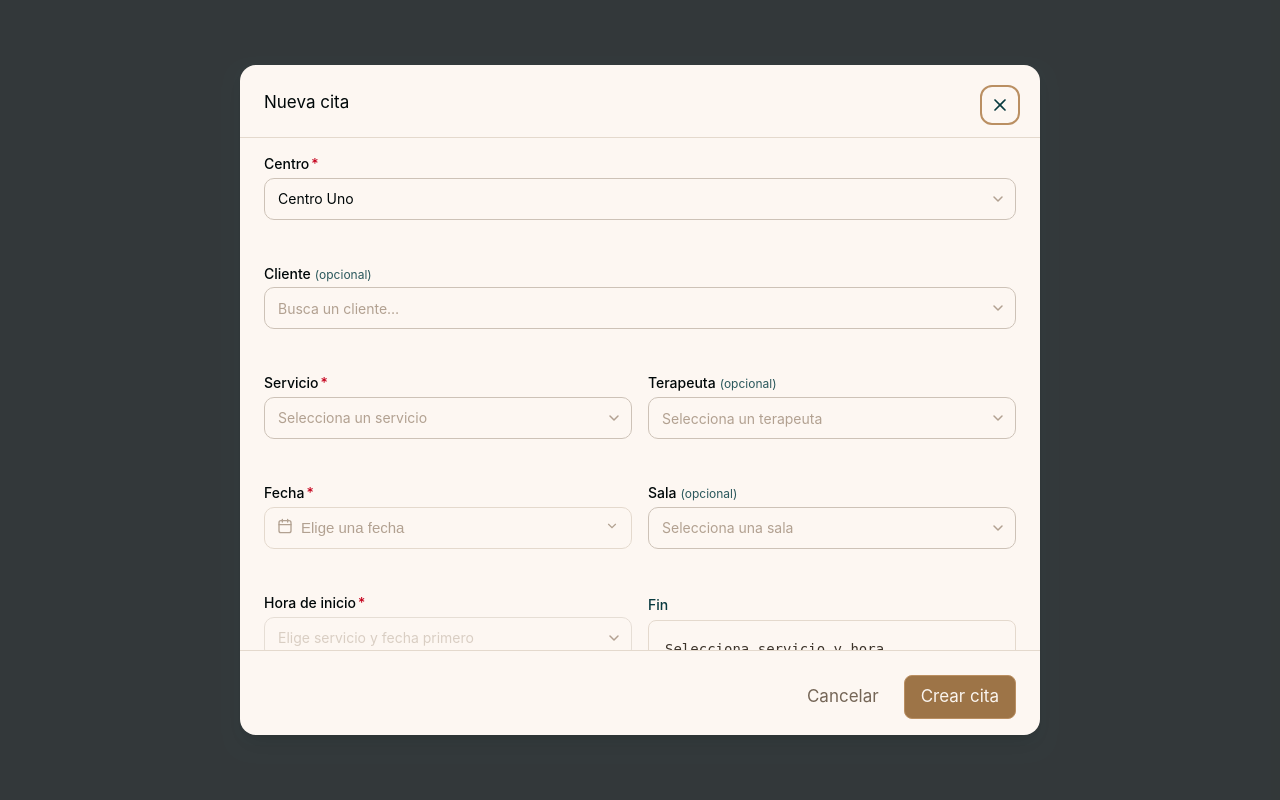
CitaModal — centro selector › changing the centro resets servicio/sala/masajista and re-scopes the pickers
The image size is (1280, 800).
# Pick a servicio first so the reset is observable.
Click the button labelled "Selecciona un servicio".
click(353, 418)  # box [264,397,632,439]
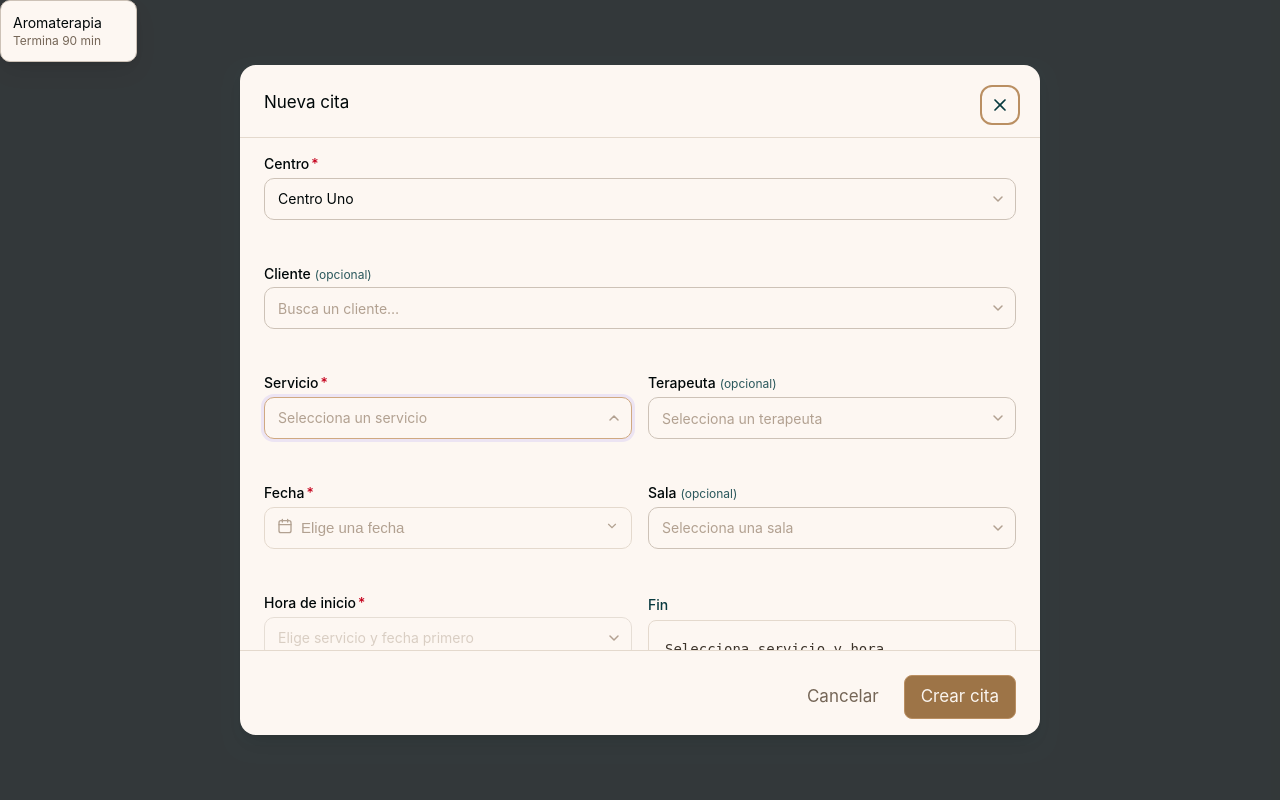
Click the option "Aromaterapia Termina 90 min".
click(68, 31)  # box [1,5,136,57]
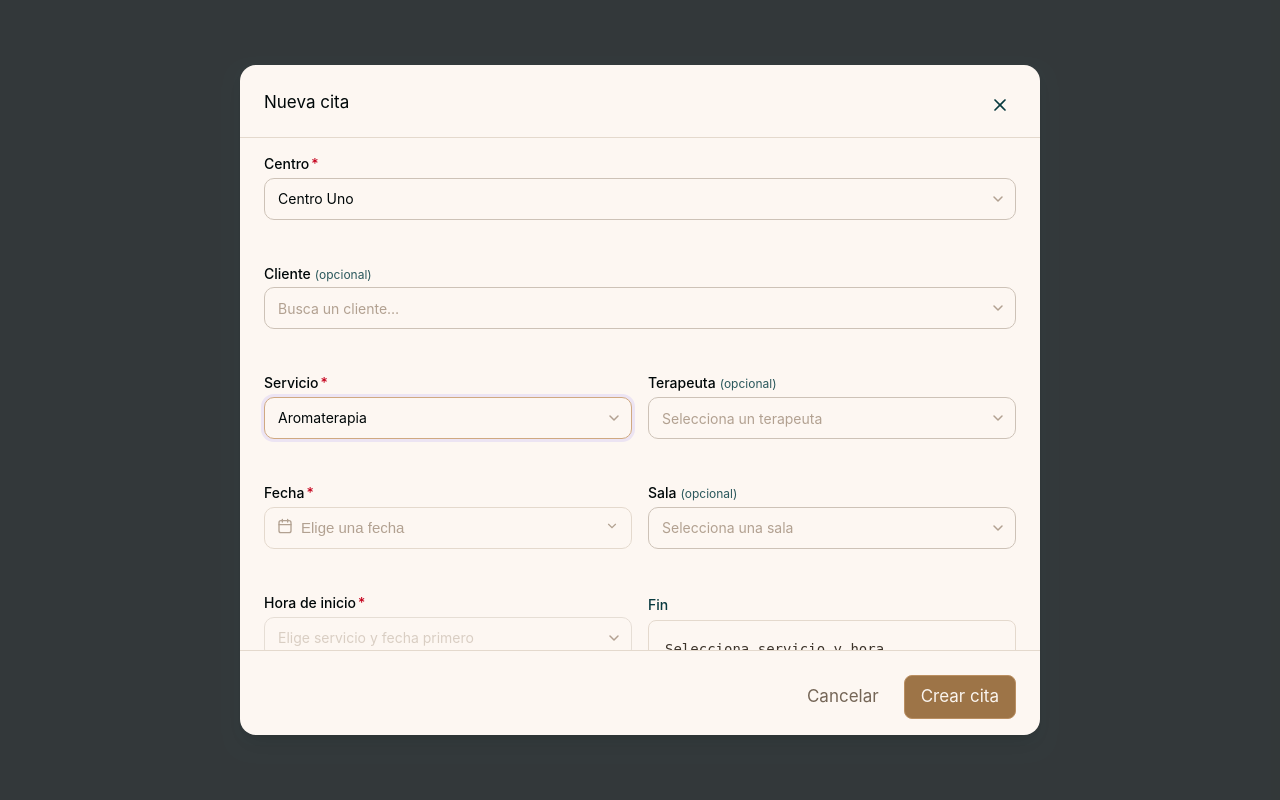
Result: the button named "Servicio" reads "Aromaterapia" at [264,397,632,439]
# Switch centro from the default (id 1) to "Centro Dos" (id 2).
Click the button labelled "Centro Uno".
click(316, 199)  # box [264,178,1016,220]
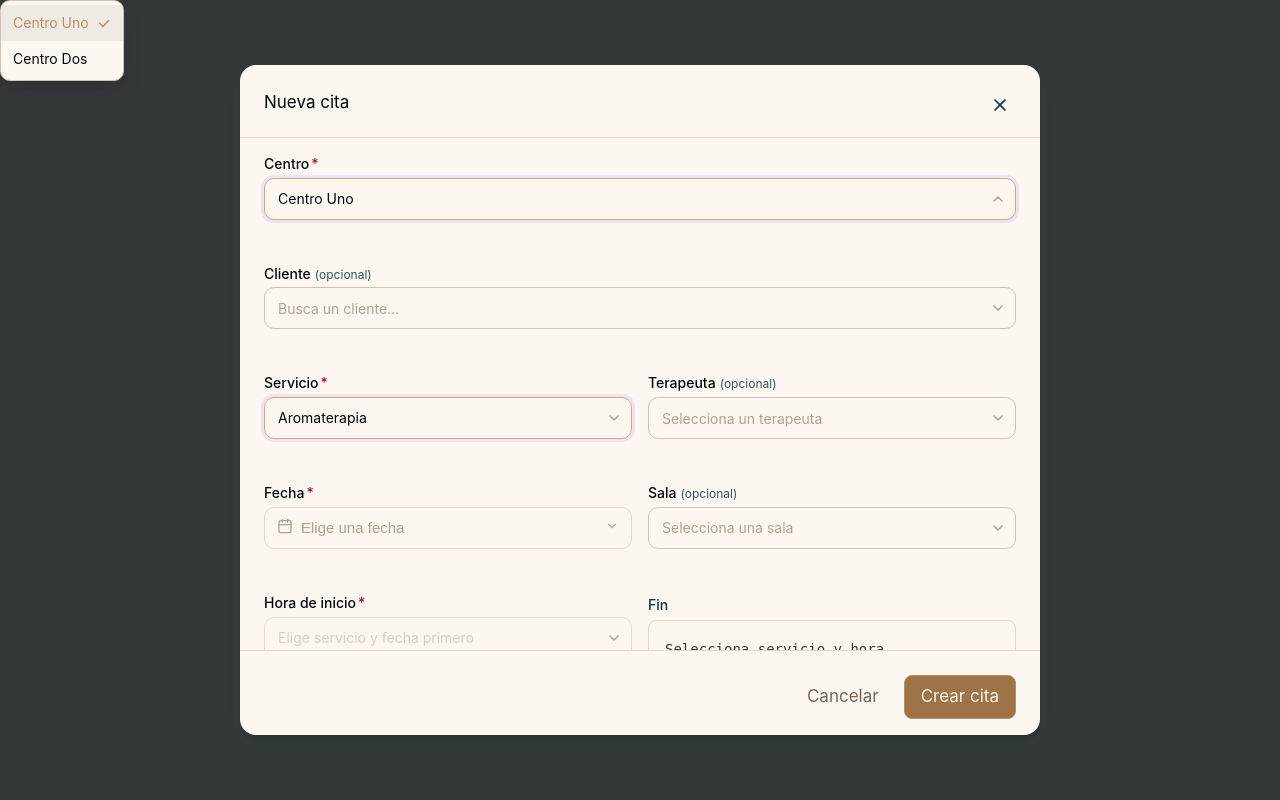
Click the option "Centro Dos".
click(62, 58)  # box [1,41,123,76]
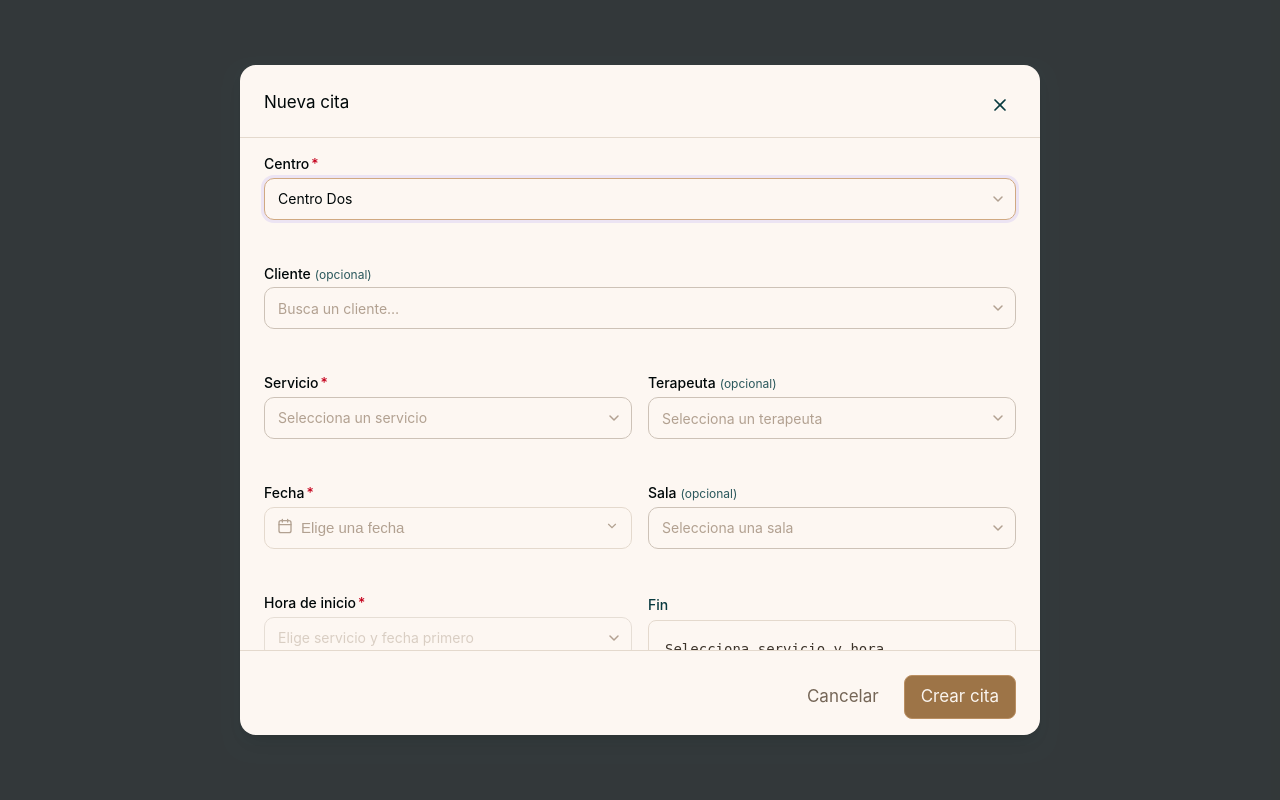
Result: the button labelled "Selecciona un servicio" is shown at [264,397,632,439]
